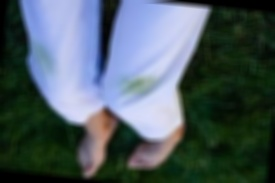earth: (124, 79, 150, 94), (35, 48, 52, 69)
